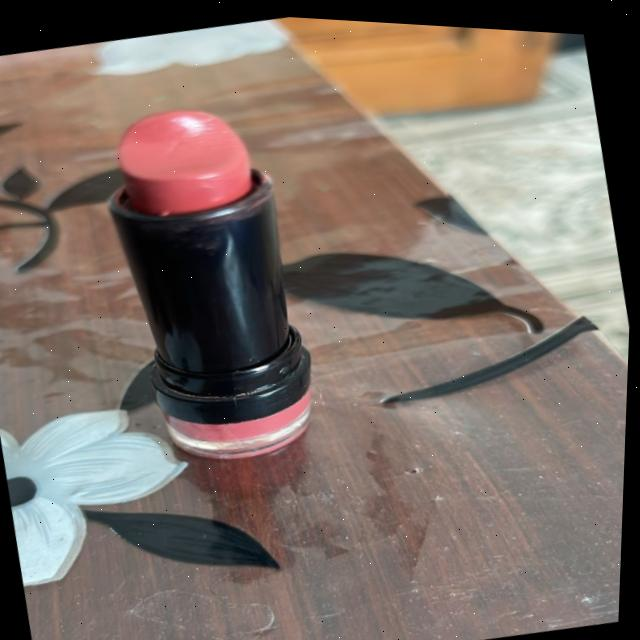lip stick: (88, 68, 349, 509)
